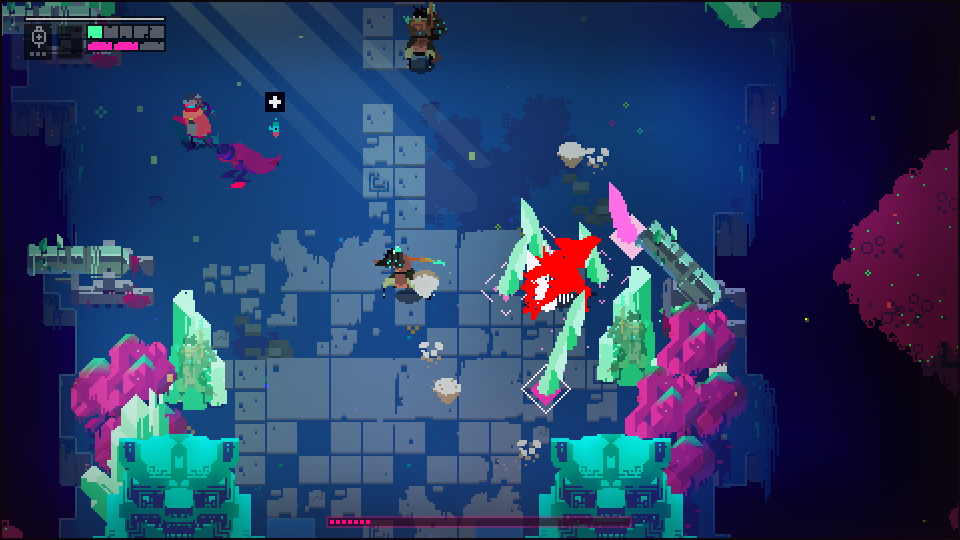hanged_crys: (525, 333, 575, 418), (601, 180, 651, 258), (489, 240, 534, 309)
hanged_man: (523, 231, 602, 319)
player: (171, 92, 215, 149)
